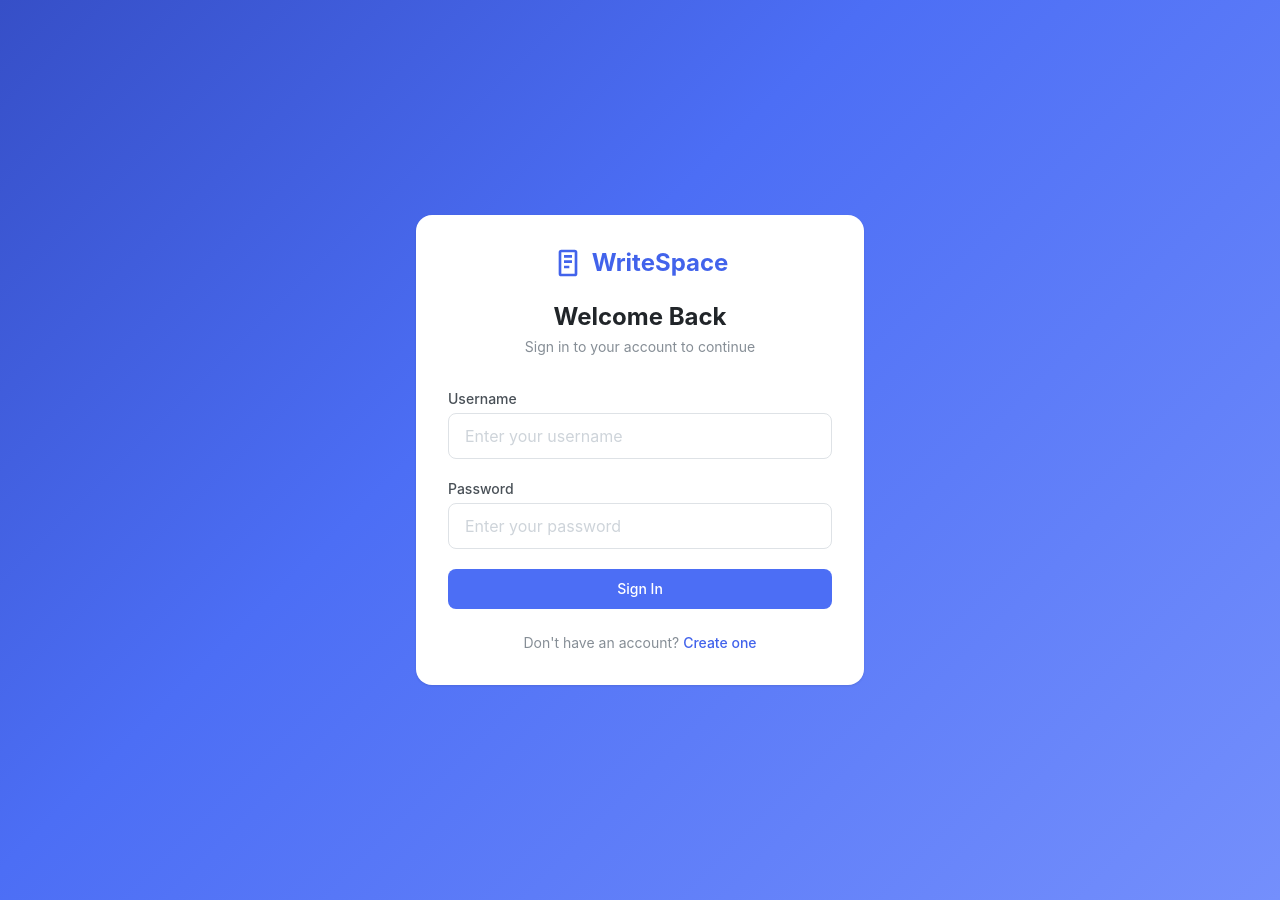
it: LoginPage › failed login › displays a generic error message when login returns no error string
Type "wrong" into the field labelled "Username" at coordinates (640, 436), box [448,413,832,459]
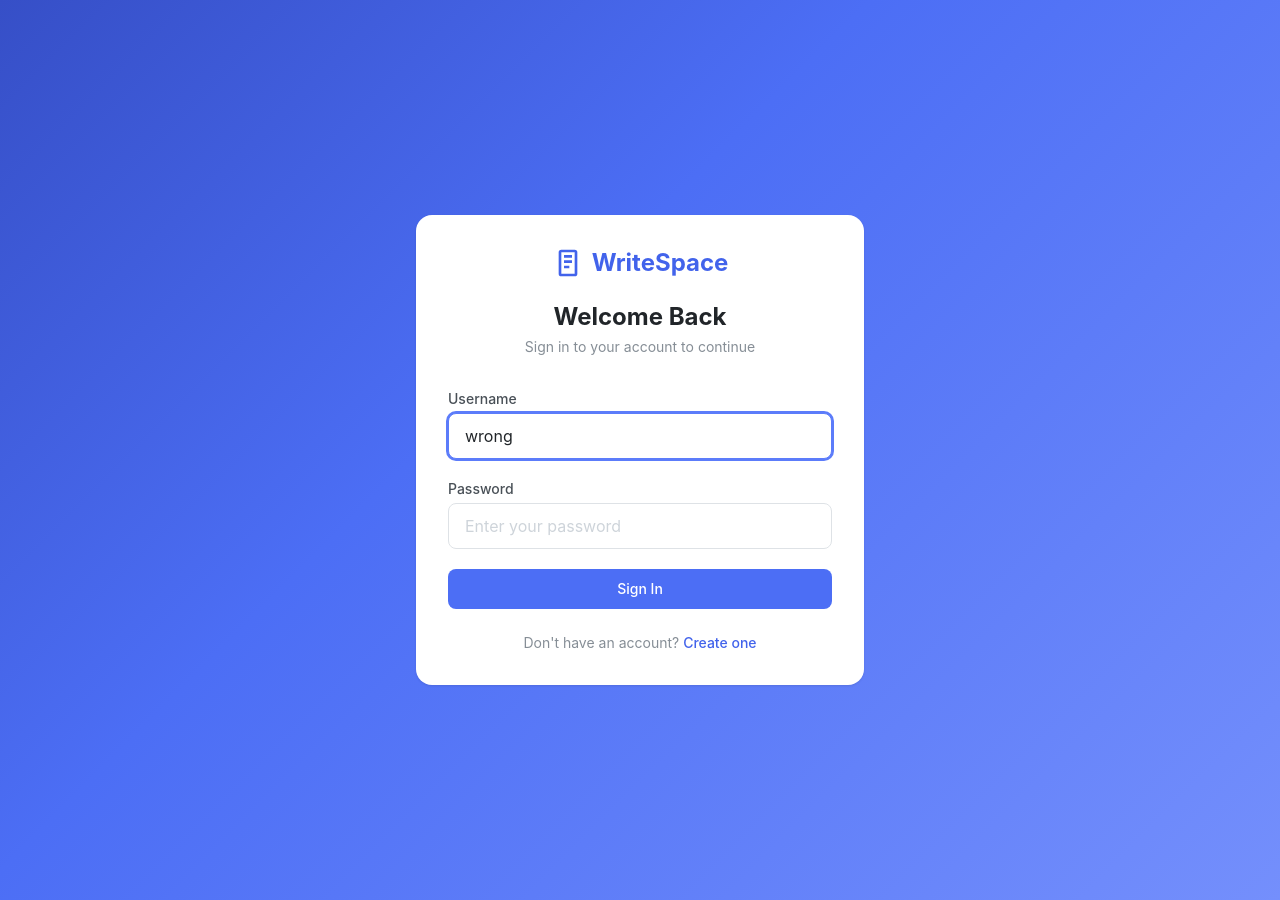
Type "wrongpass" into the password field labelled "Password" at coordinates (640, 526), box [448,503,832,549]
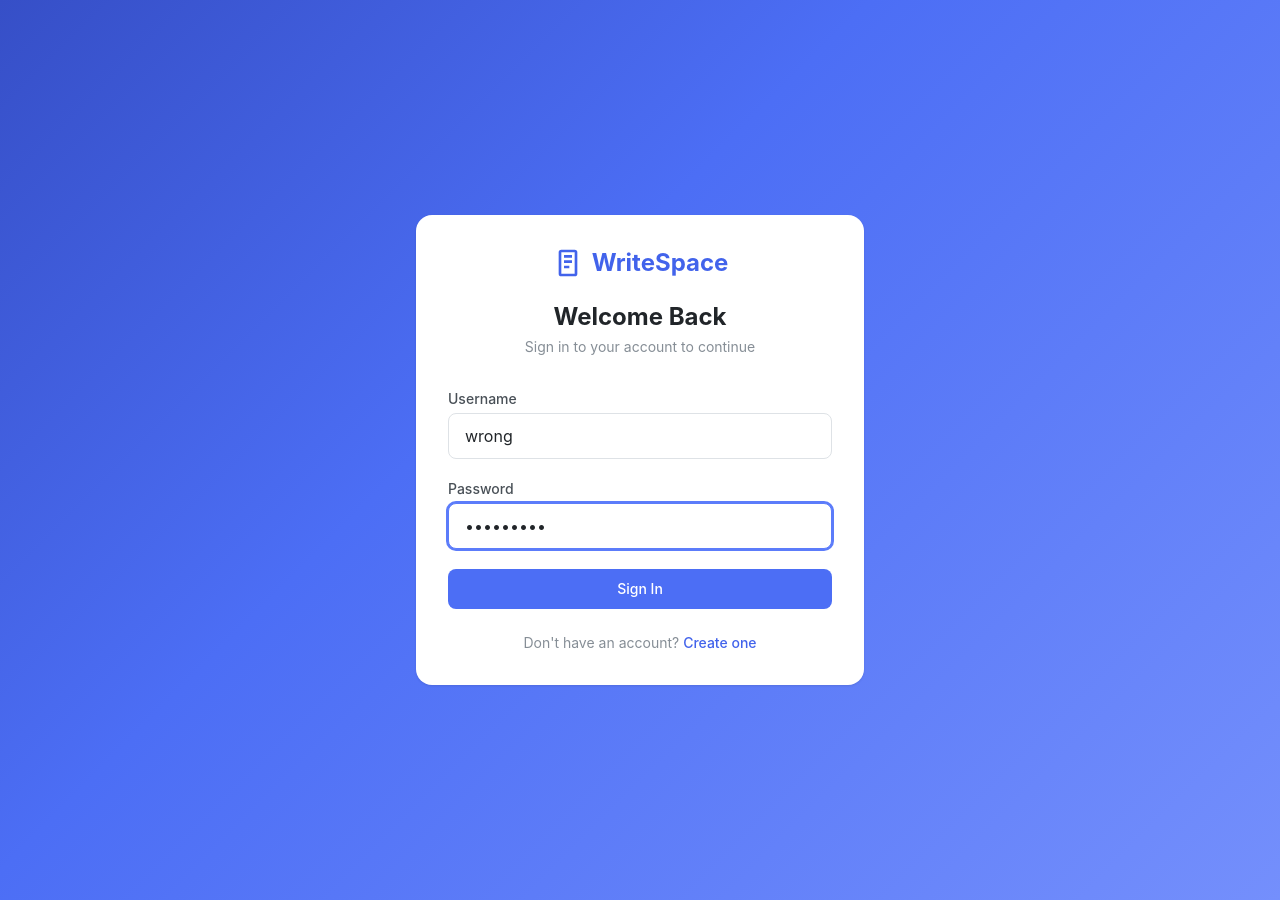
Click the button "Sign In" at coordinates (640, 589), box [448,569,832,609]
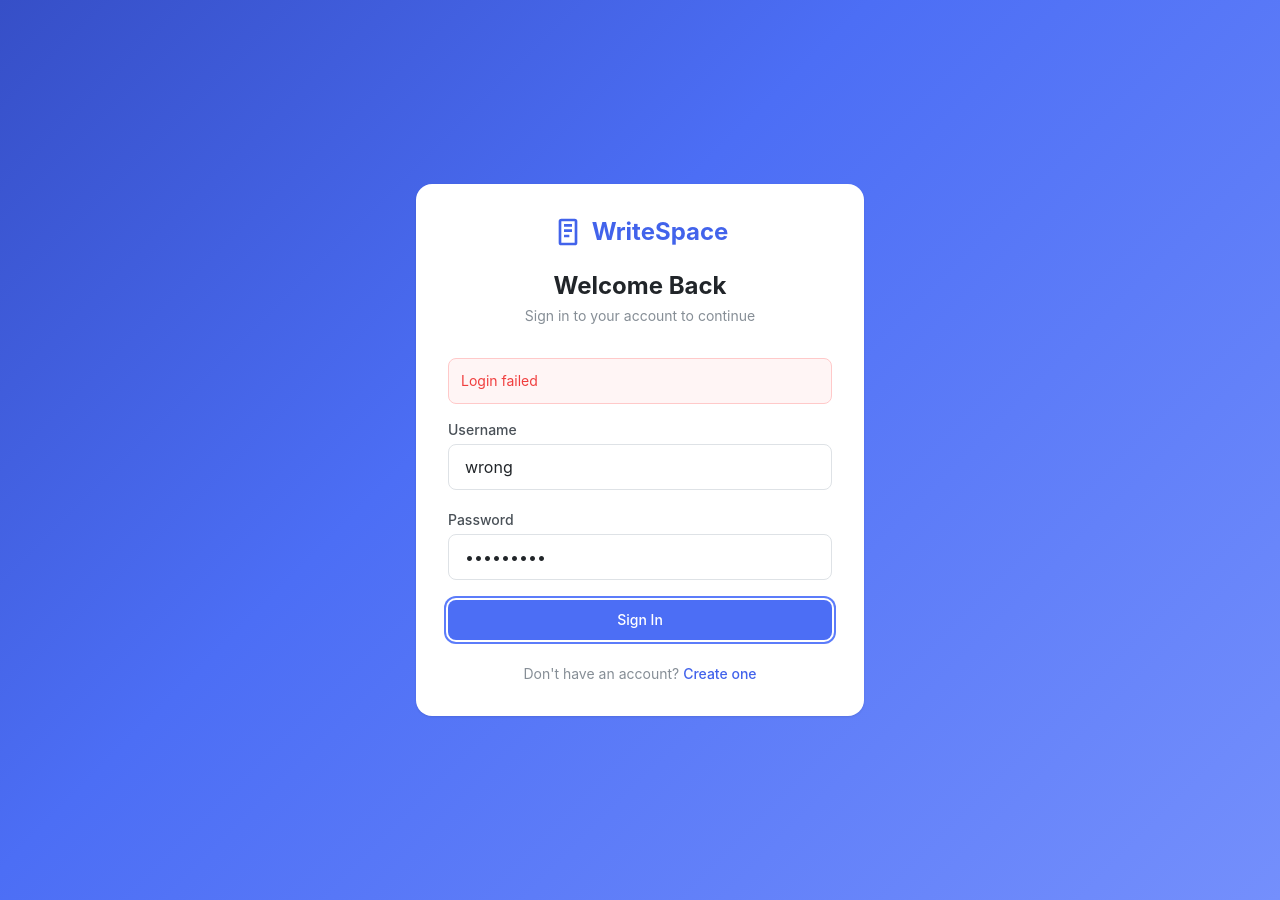
Check: the message reads "Login failed", box [461,372,538,389]
